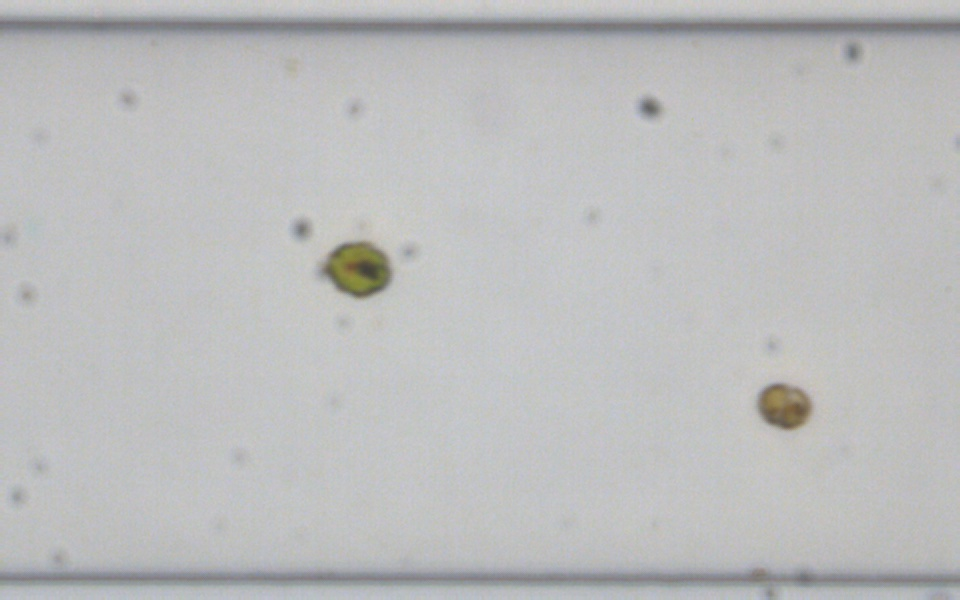Effrenium: (752, 380, 813, 431)
Haematococcus: (322, 238, 394, 300)
